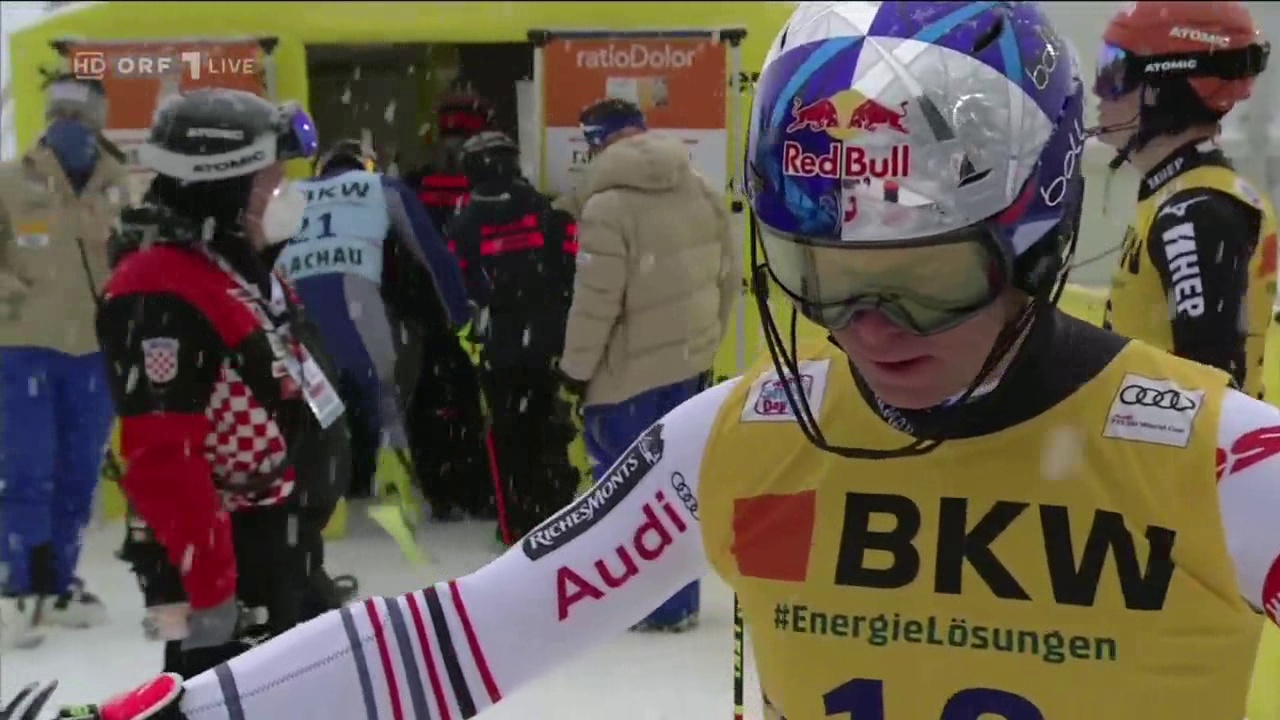audi: (1107, 380, 1211, 441)
